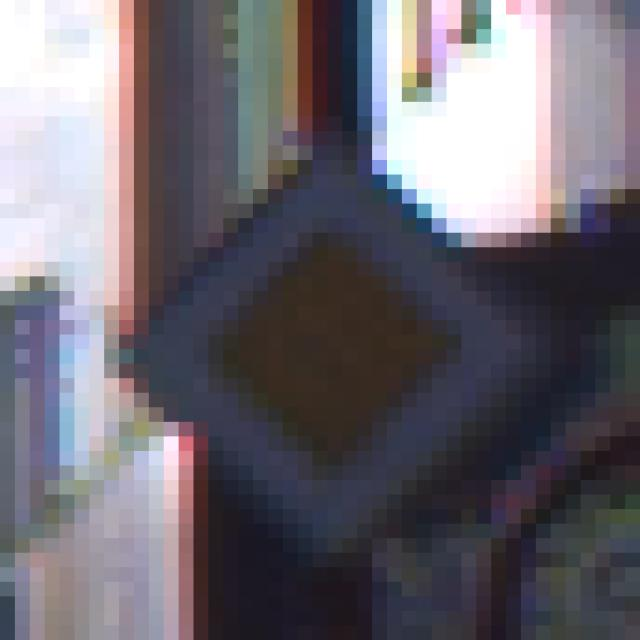Main Road: (76, 89, 567, 569)
